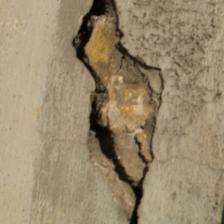Crack: (37, 19, 131, 132), (6, 8, 190, 51)
